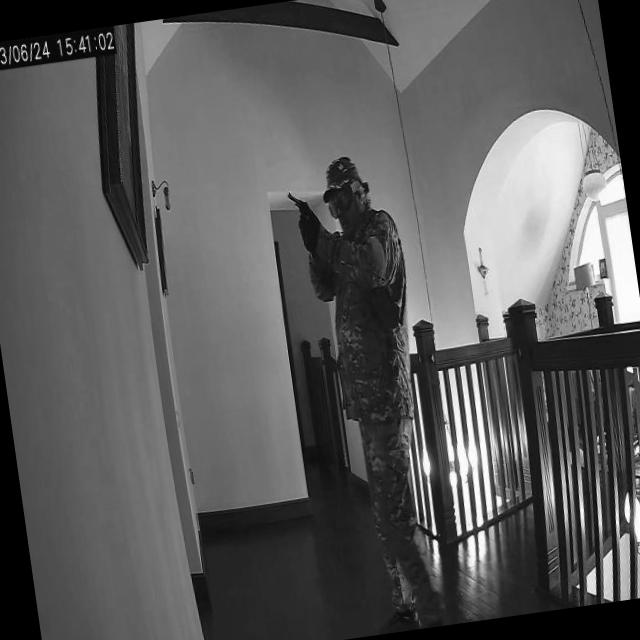gun: (285, 185, 316, 232)
